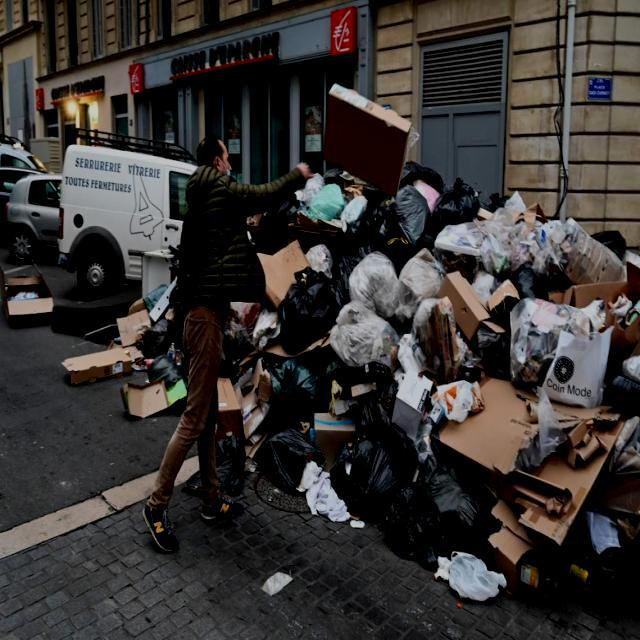high trash: (214, 90, 640, 640), (62, 281, 188, 418)
less trash: (2, 265, 52, 324), (261, 571, 292, 596)
